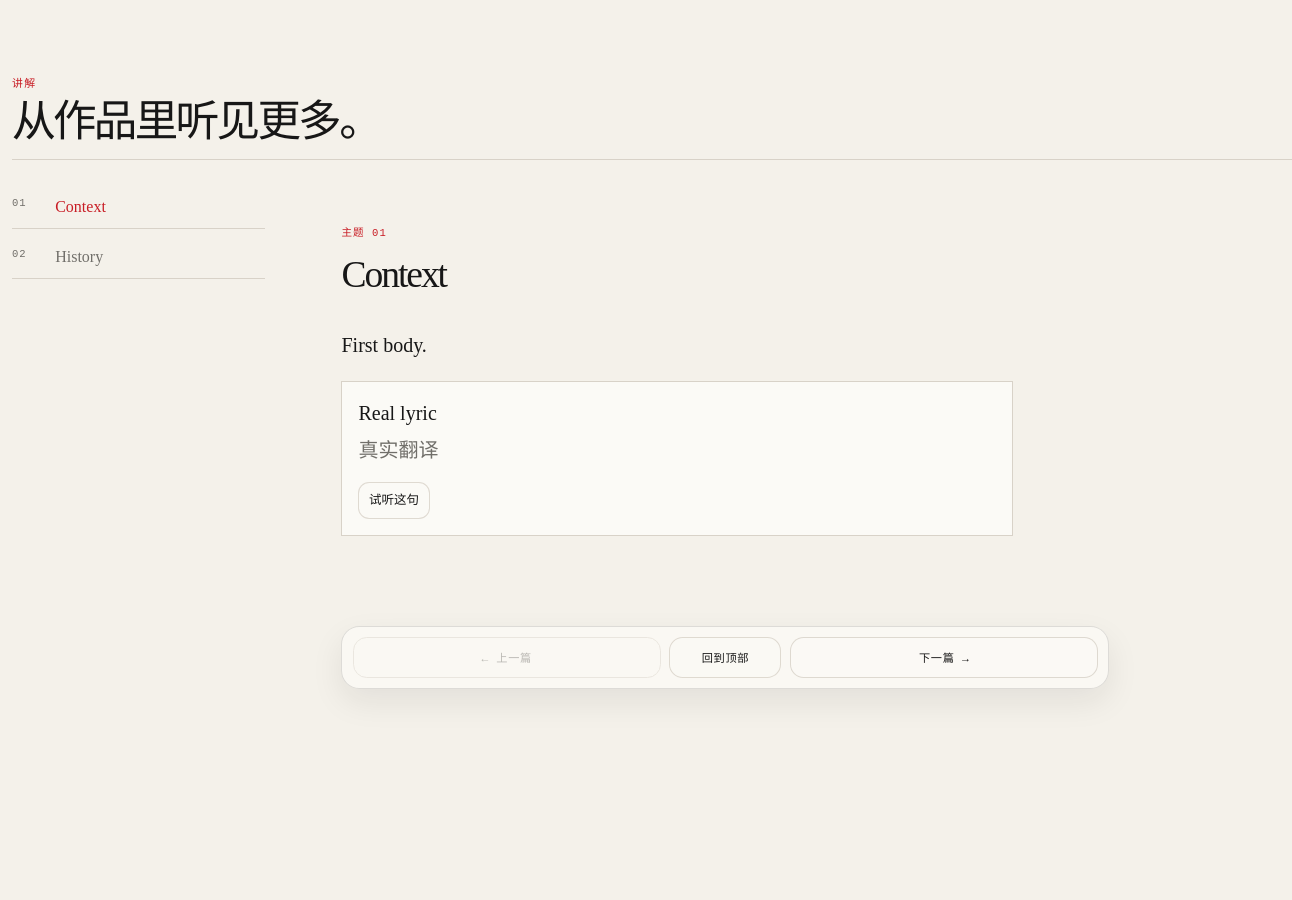
Test case: ExplainWorkspace › loads only the selected article and switches between topics
Expected: the text "First body." is shown, [342,334,427,356]
Expected: the text "Second body." is not shown
Click the button "02 History".
click(138, 257)  # box [12,234,265,279]
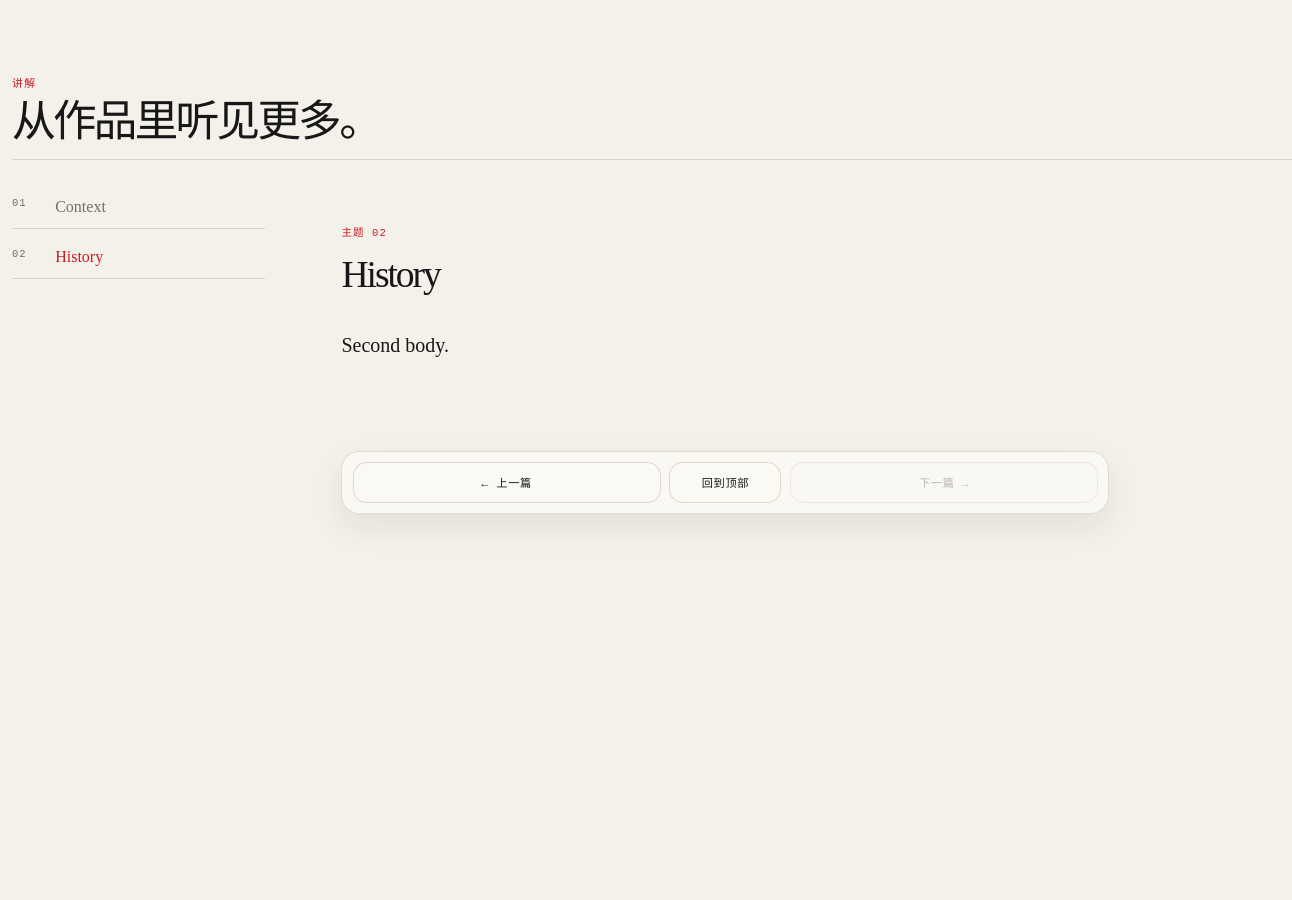
Expected: the heading "History" is shown, [342,254,440,295]
Expected: the text "Second body." is shown, [342,334,449,356]
Expected: the text "First body." is gone
